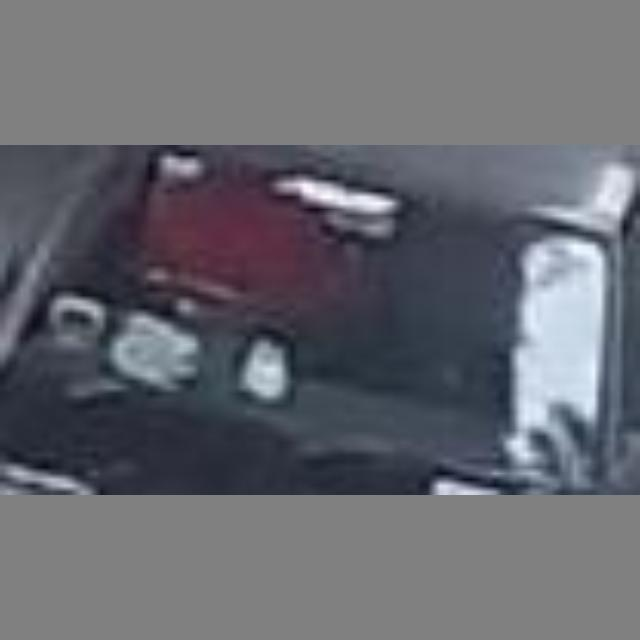tidak-pakai: (142, 170, 345, 336)
